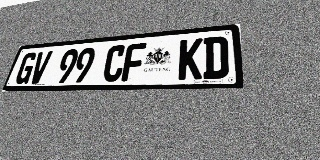9: (71, 47, 97, 83), (55, 48, 80, 83)
C: (101, 44, 127, 82)
D: (203, 36, 229, 79)
F: (121, 43, 147, 81)
G: (13, 52, 38, 84)
K: (178, 38, 203, 80)
V: (28, 51, 53, 84)
